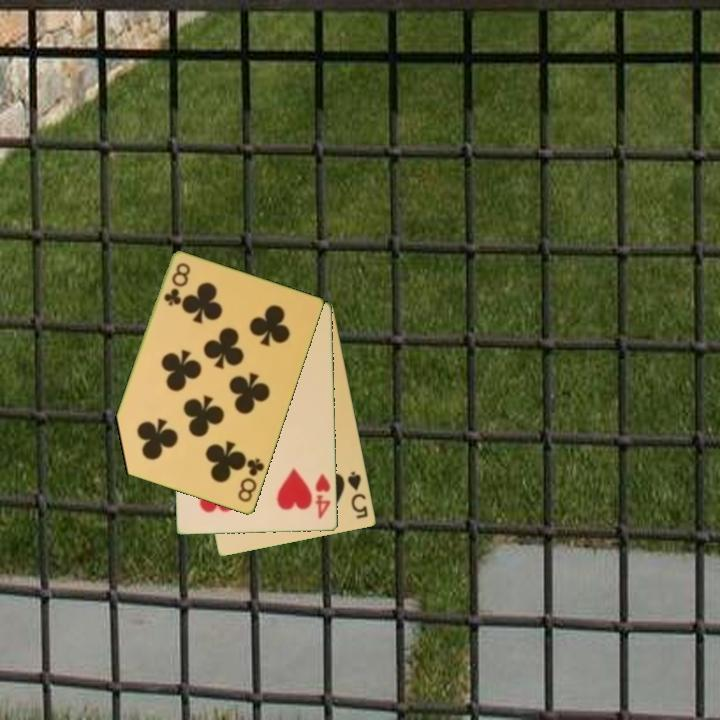4h: (312, 471, 334, 522)
5s: (344, 468, 371, 522)
8c: (234, 455, 267, 505), (160, 259, 193, 309)
